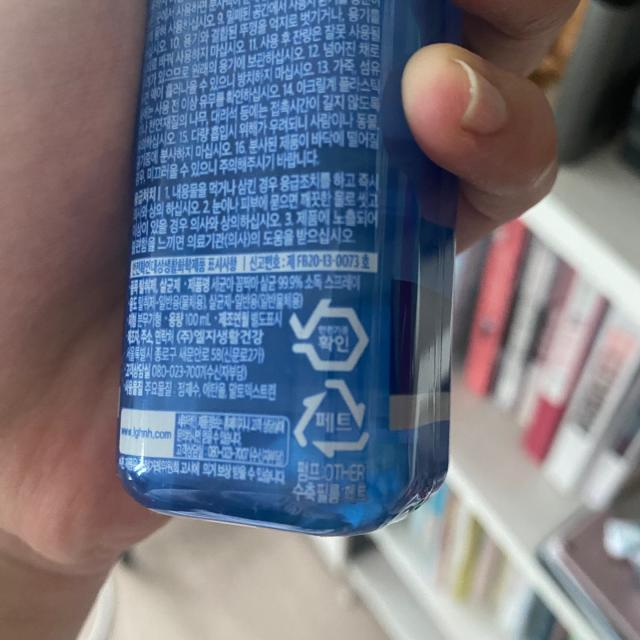PET: (290, 374, 373, 460)
